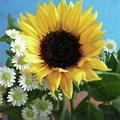sunflowers: (15, 1, 107, 98)
